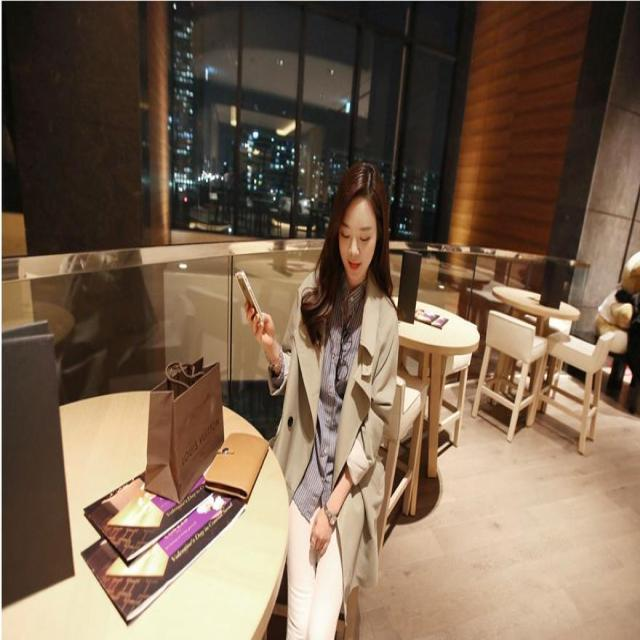long-sleeve-outwear: (289, 269, 395, 600)
